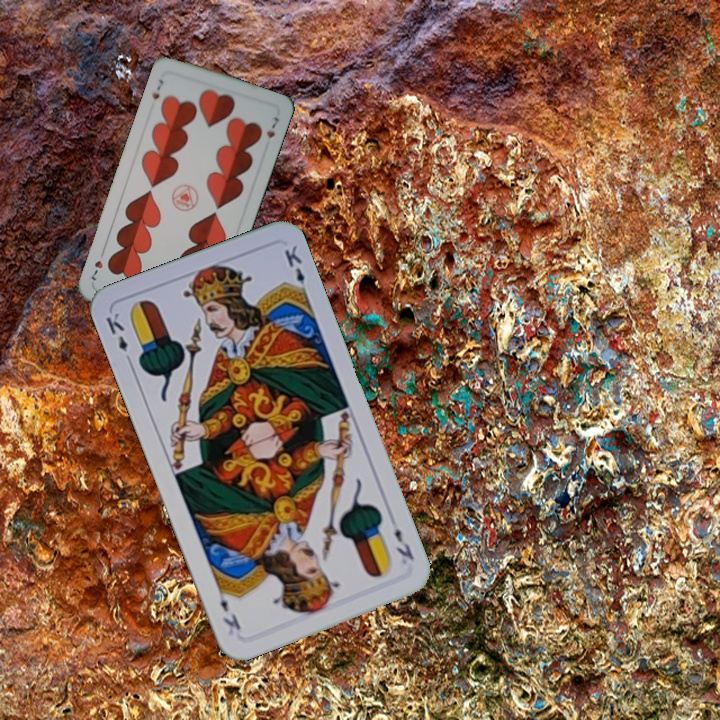EK: (101, 308, 135, 367), (390, 524, 417, 563)
H7: (148, 75, 166, 102)
